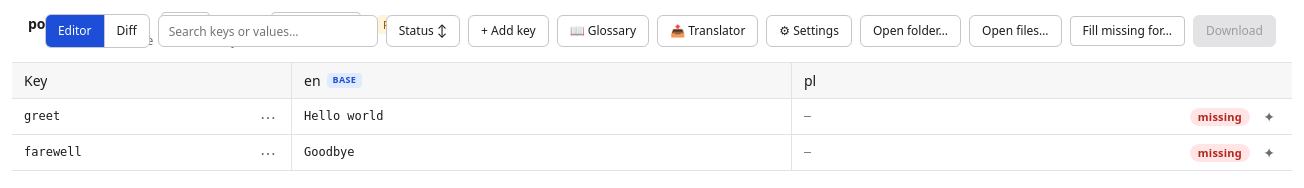
Scenario: EditorView search filter (smoke) › matches against rendered locale values, not just key paths
Expected: the text "greet" is shown, [24, 109, 60, 123]
Type "goodbye" into the search field labelled "Search keys or values" at coordinates (268, 31), box [158, 15, 378, 47]
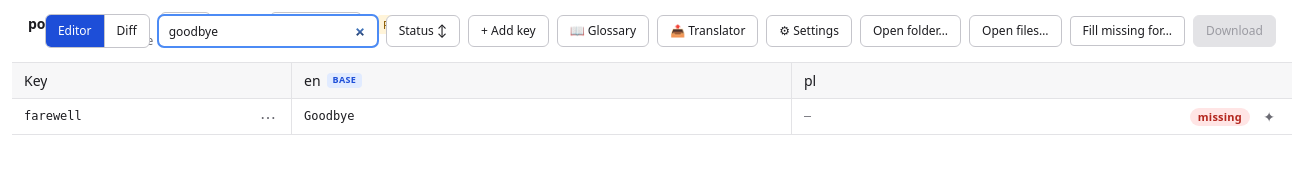
Expected: the text "farewell" is shown, [24, 109, 82, 123]
Result: the text "greet" is gone
